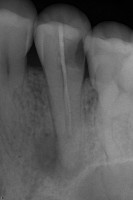Furcation Involvement: (35, 129, 82, 183)
